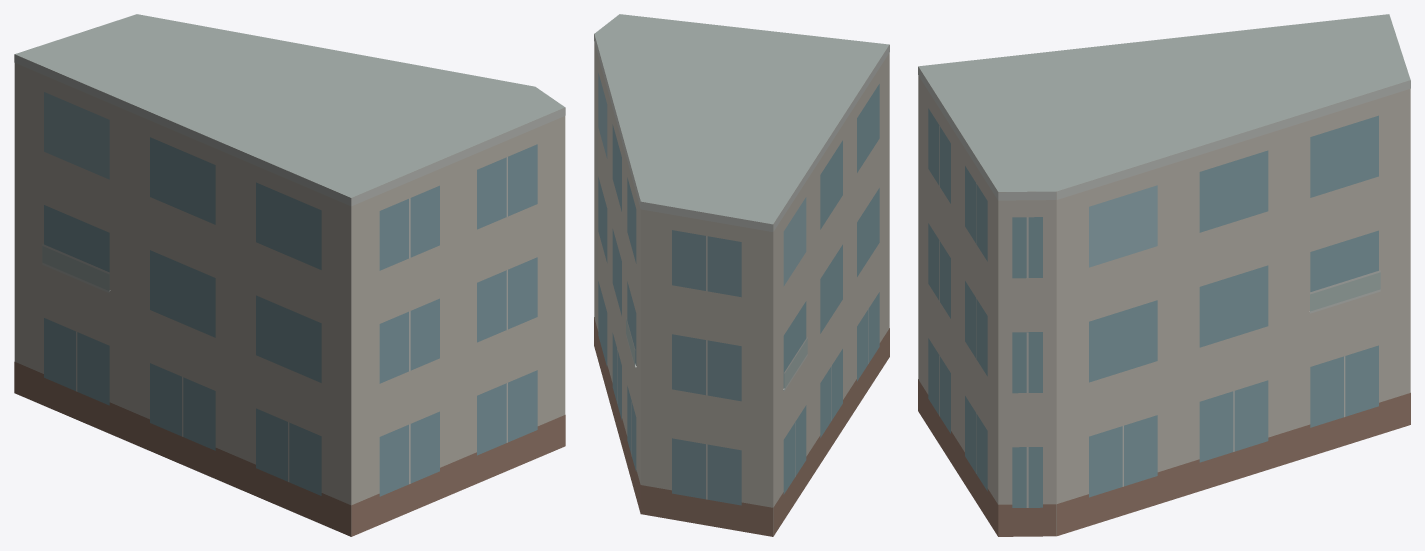
Rendered from survey-upis-32622142.glb.
3 renders of one model, left to right at view 1: azimuth 30°, elevation 25°; view 2: azimuth 150°, elevation 25°; view 3: azimuth 270°, elevation 25°, orthographic. The views are drawn at different scales.
Visible parts, largest first — view 1: survey-upis-32622142.tmp; view 2: survey-upis-32622142.tmp; view 3: survey-upis-32622142.tmp.
Part boxes in pixels (x1=…): survey-upis-32622142.tmp: x1=14, y1=14, x2=565, y2=536; survey-upis-32622142.tmp: x1=594, y1=14, x2=889, y2=536; survey-upis-32622142.tmp: x1=918, y1=14, x2=1410, y2=536.
Size of the model in its own units: 10.87 by 9.8 by 12.7.
